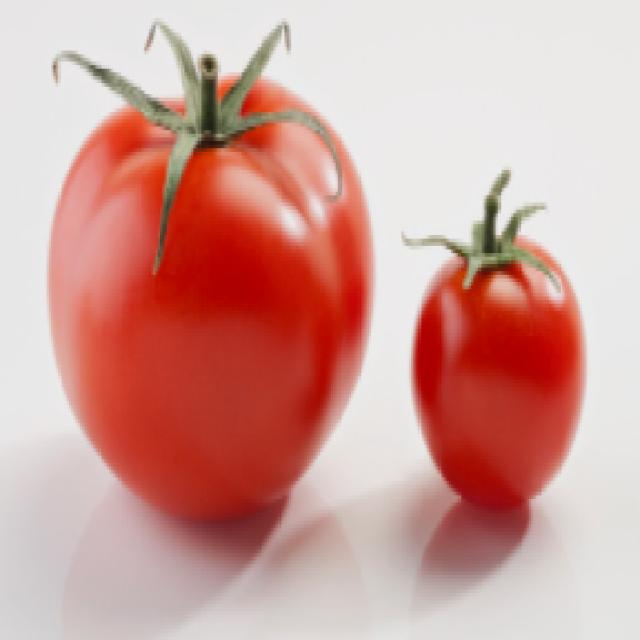Tomato: (51, 46, 384, 520), (409, 212, 576, 495)
